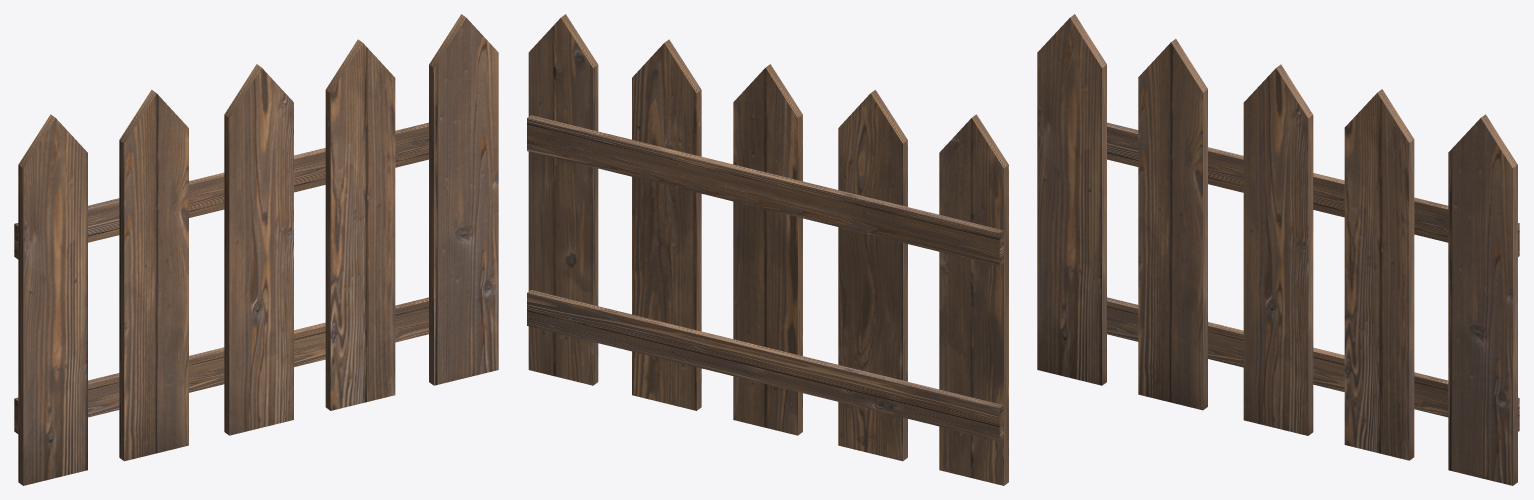
Rendered from Fence.fbx.
The picture shows the model from 3 angles, left to right: view 1: azimuth 30°, elevation 25°; view 2: azimuth 150°, elevation 25°; view 3: azimuth 330°, elevation 25°; orthographic projection.
Visible parts, largest first — view 1: group3_pasted__pCube1; view 2: group3_pasted__pCube1; view 3: group3_pasted__pCube1.
Boxes of the visible parts, box(x1,y1,x2,y2) form: group3_pasted__pCube1: box(14, 14, 498, 485); group3_pasted__pCube1: box(527, 14, 1008, 485); group3_pasted__pCube1: box(1037, 14, 1519, 485).
Bounding box in the file's own units: 7.36 × 5.33 × 0.2446.
Materials: 1 (1 with a texture image).
